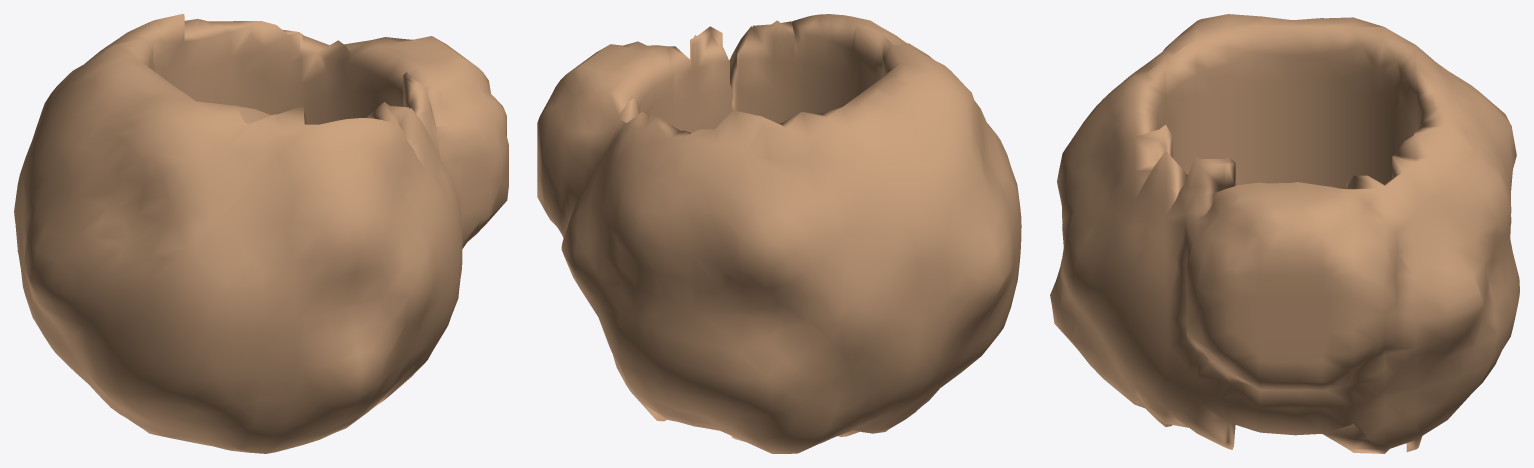
The model's file is sculpt.glb.
The picture shows the model from 3 angles, left to right: view 1: azimuth 30°, elevation 25°; view 2: azimuth 150°, elevation 25°; view 3: azimuth 270°, elevation 25°; orthographic projection. The views are drawn at different scales.
Parts seen in each view (by area): view 1: sculpture; view 2: sculpture; view 3: sculpture.
Part boxes in pixels (bbox=[...]): sculpture: bbox=[14, 14, 508, 453]; sculpture: bbox=[537, 14, 1021, 453]; sculpture: bbox=[1050, 14, 1519, 453].
Bounding box in the file's own units: 2.01 × 1.45 × 1.8.
